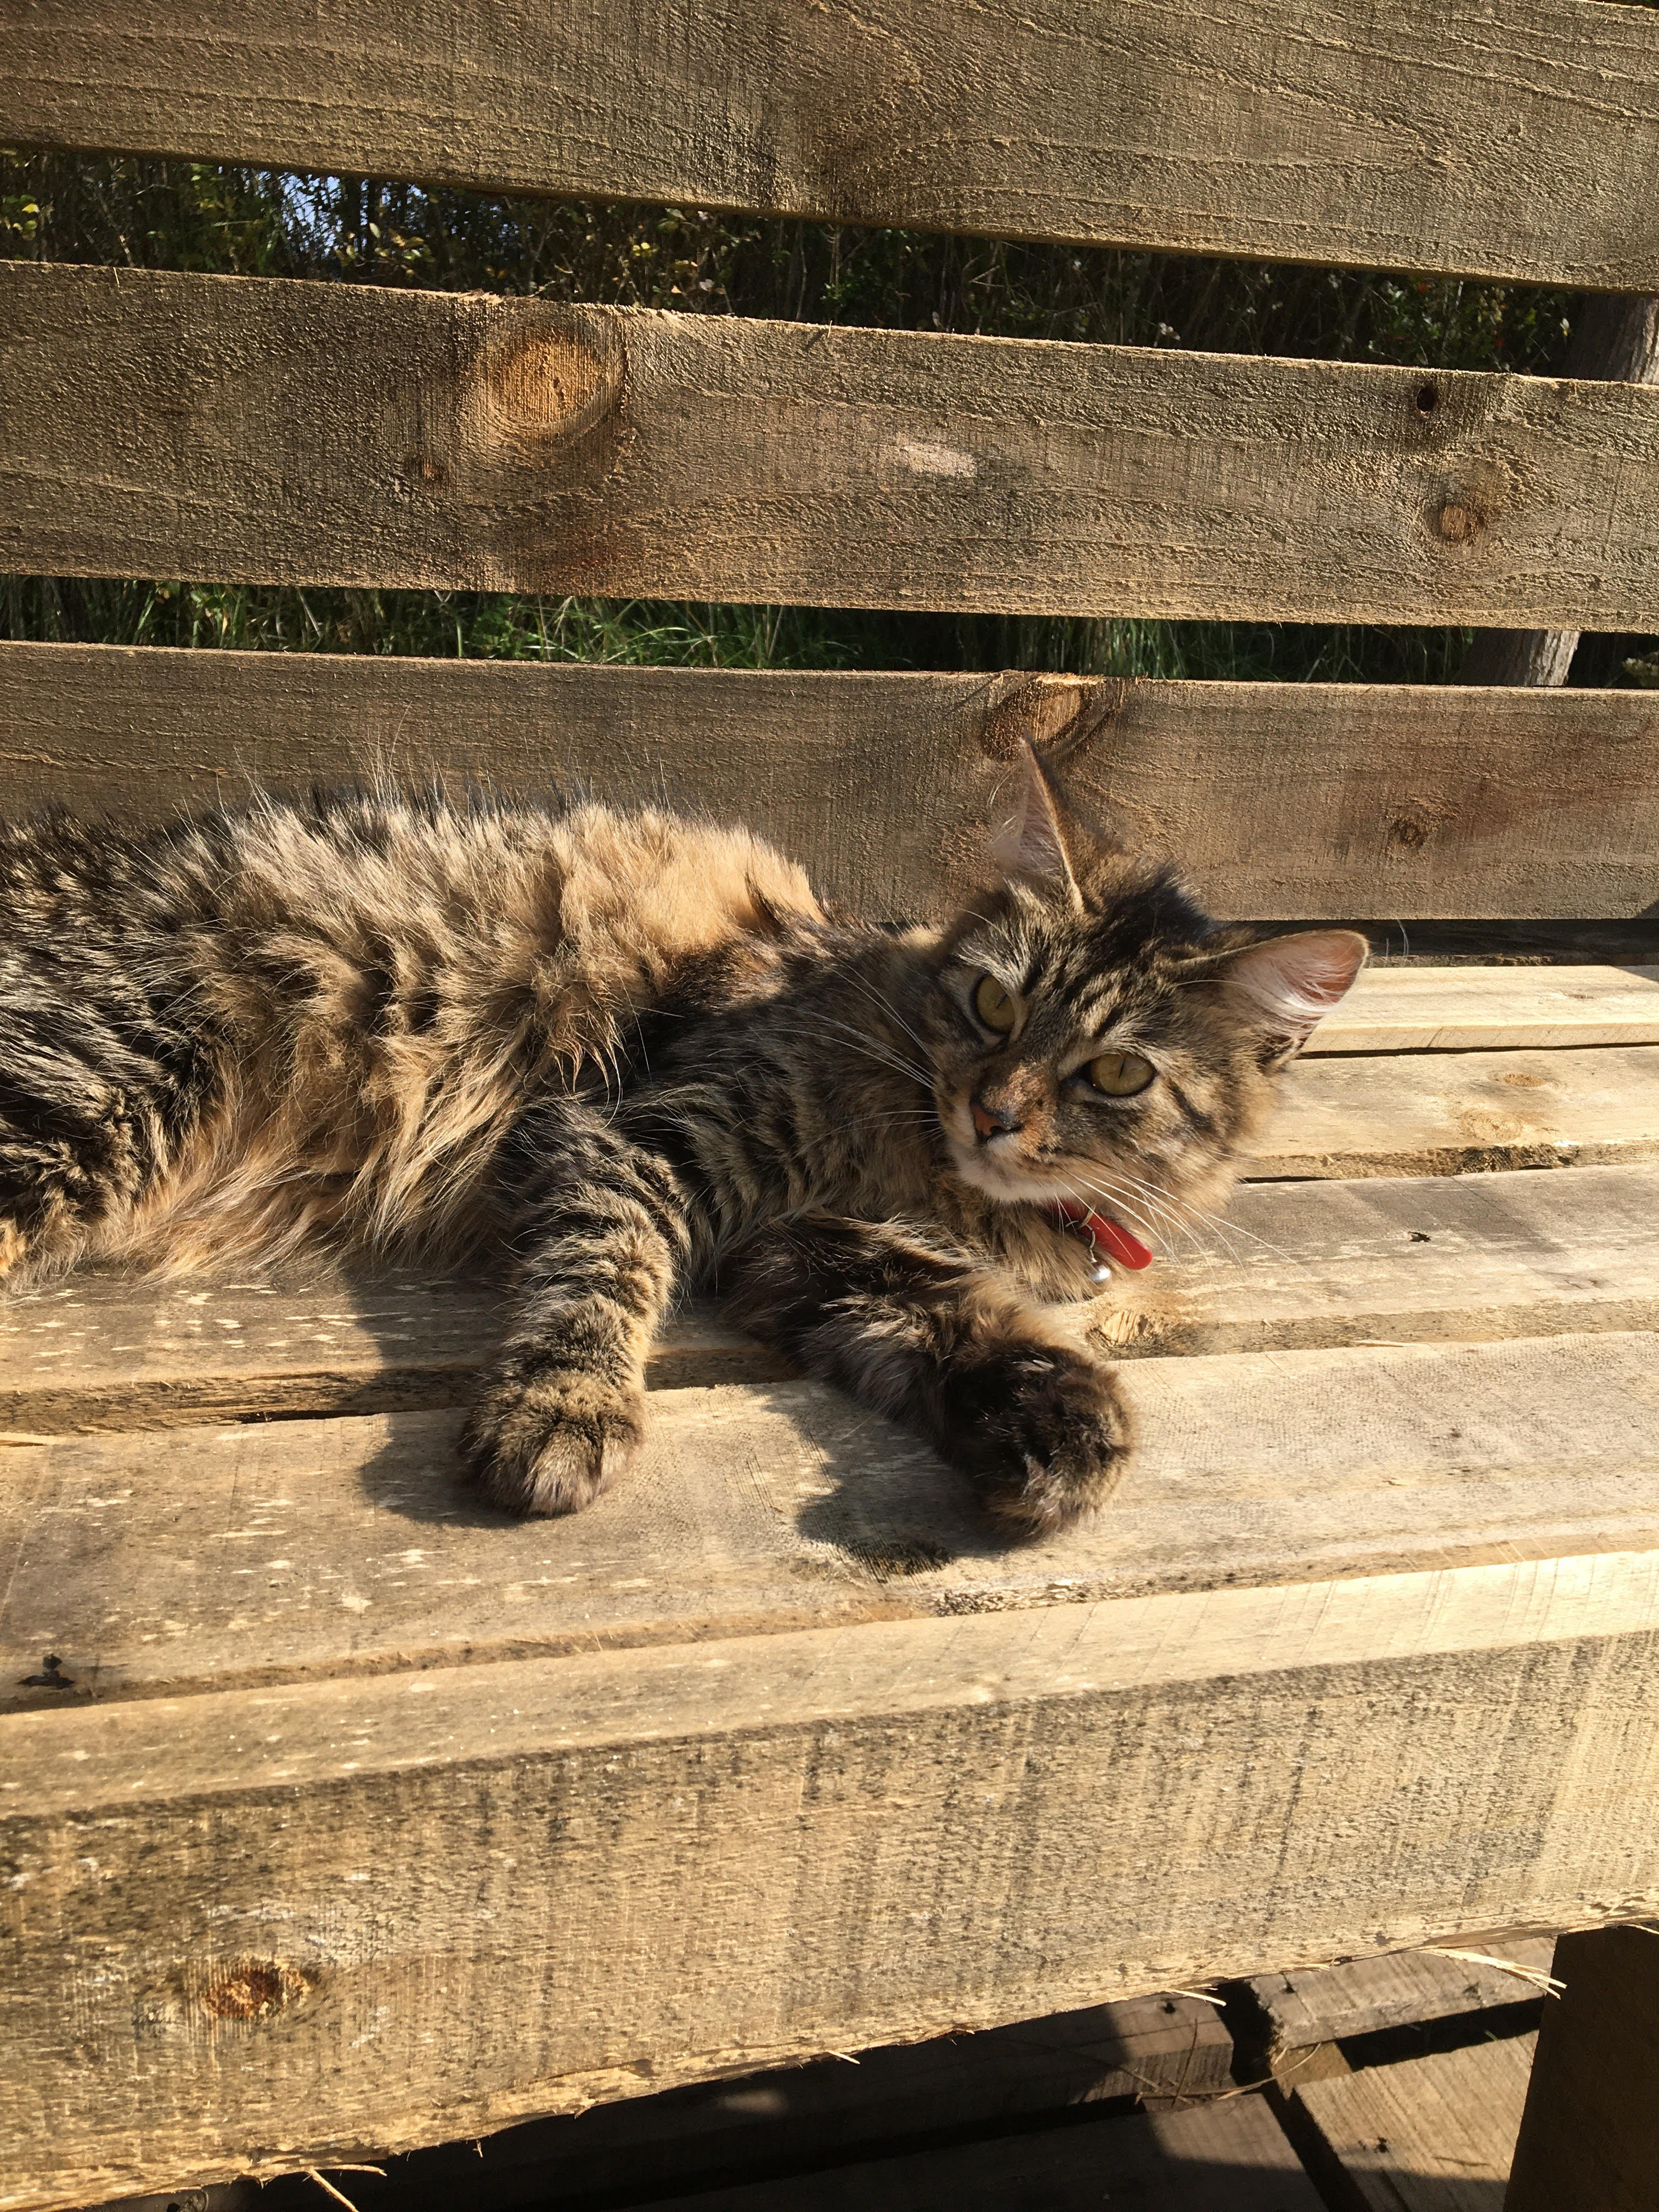pepa: (0, 733, 1375, 1534)
